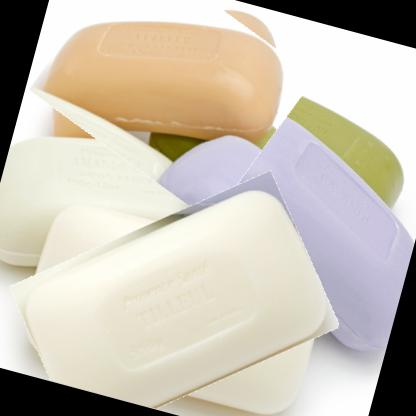soap: (0, 149, 357, 415), (23, 0, 318, 220)
